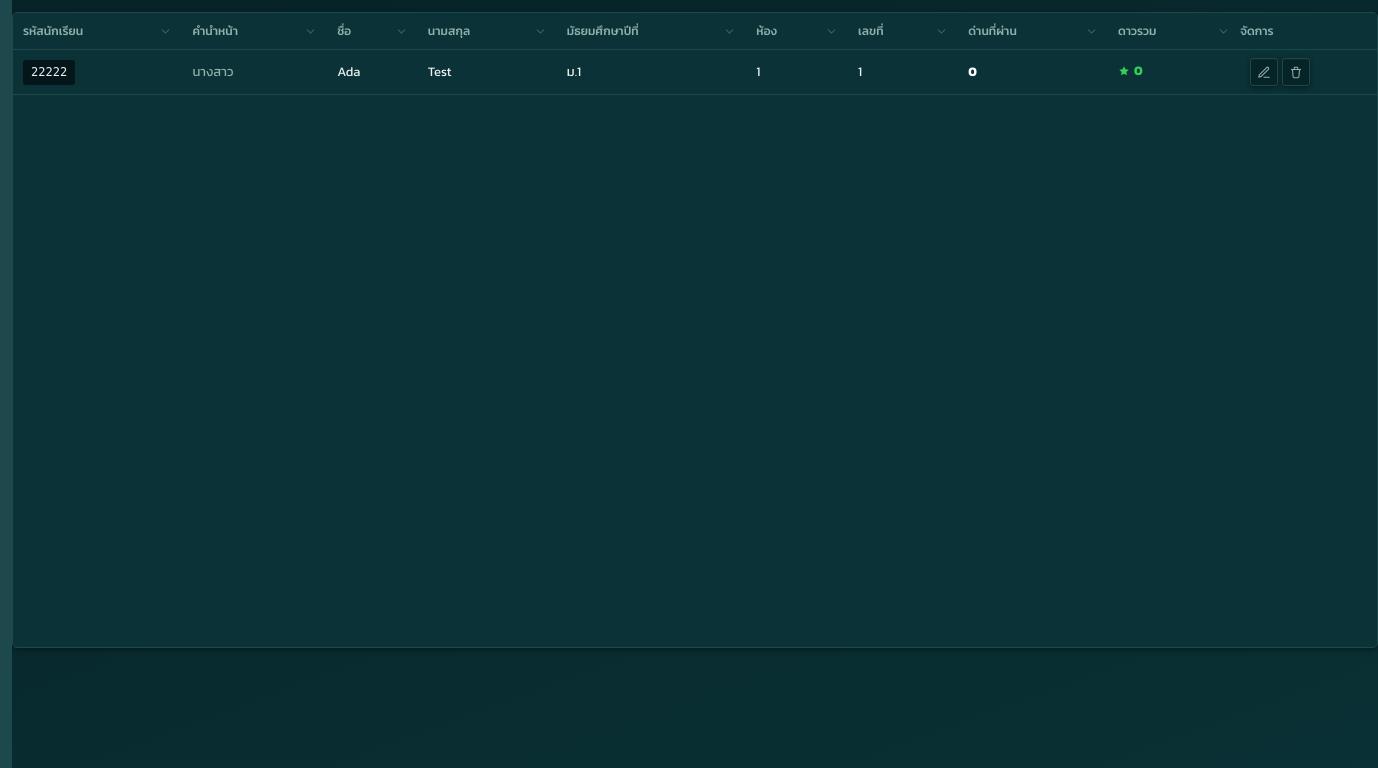
AdminStudentsTab › edits a student profile in place
Expected: the text "Ada" is shown, [327,50,418,95]
Click the button named "แก้ไขนักเรียน" at (1264, 72), box [1250,58,1278,86]
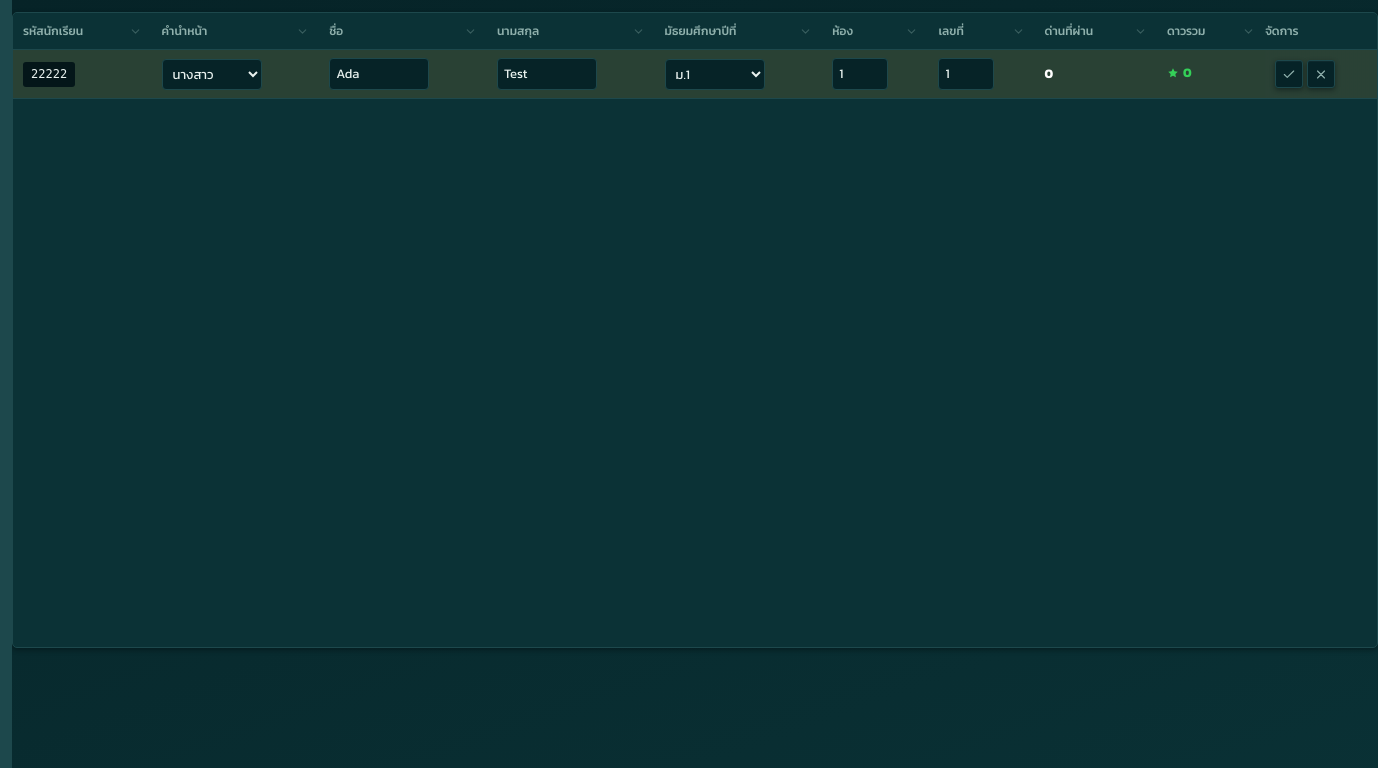
Replace the text in the field named "ชื่อ" with "Grace" at (379, 74), box [329,58,429,90]
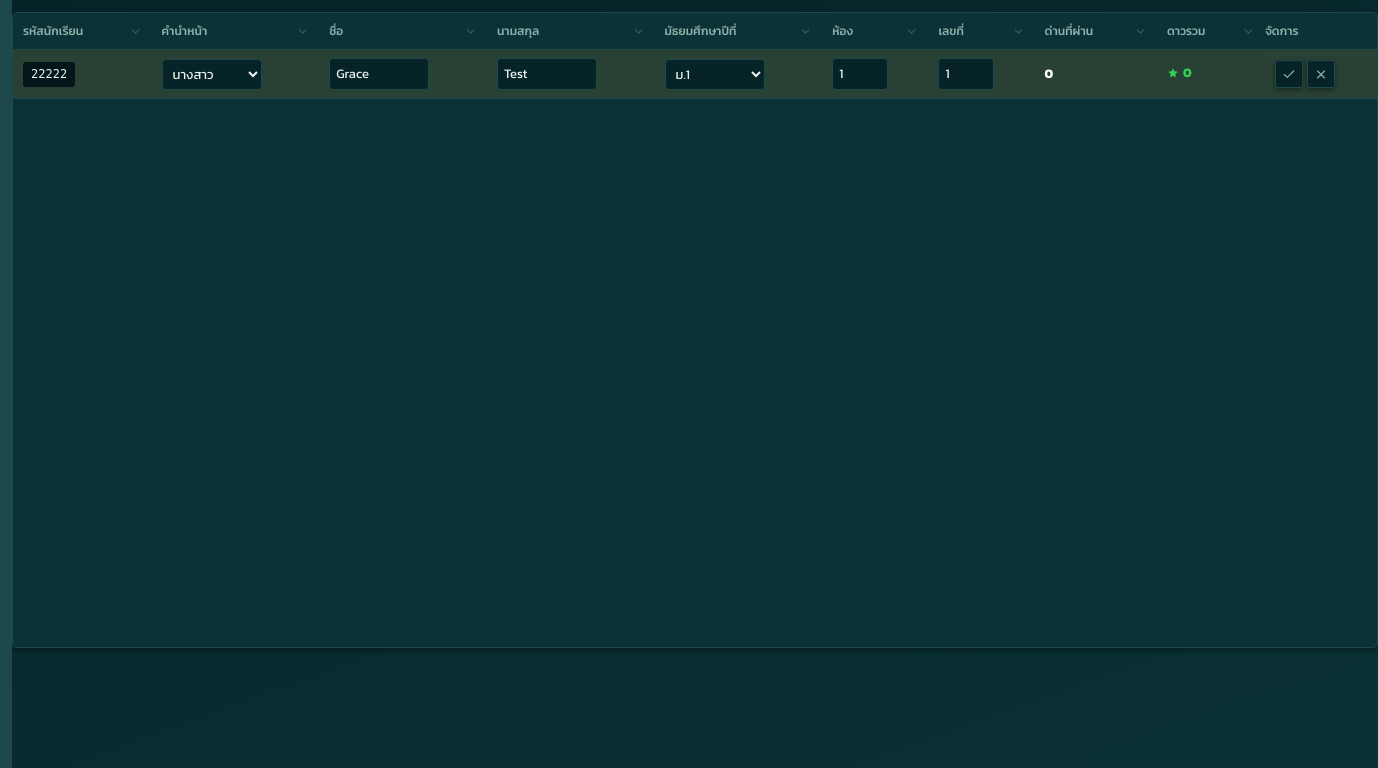
Click the button named "บันทึก" at (1289, 74), box [1275,60,1303,88]
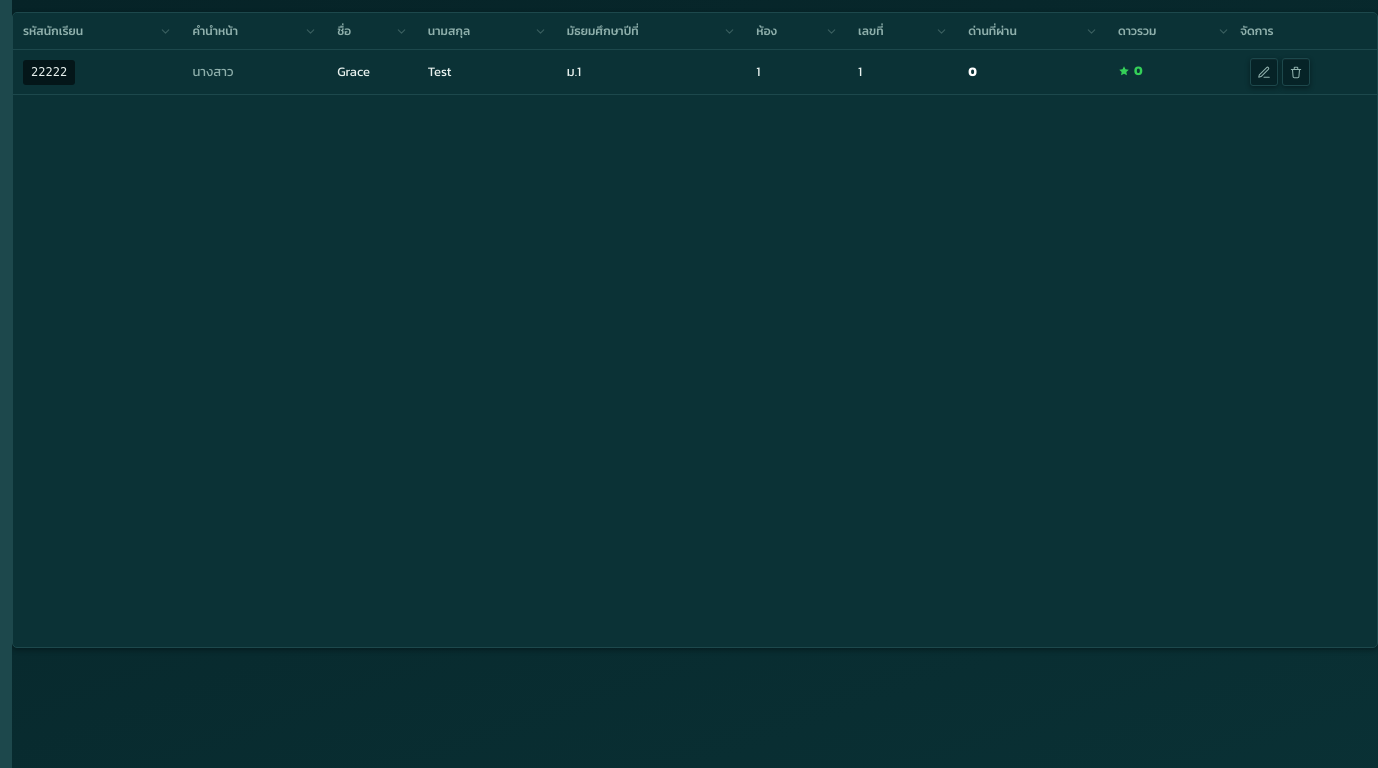
Expected: the text "Grace" is shown, [327,50,418,95]
